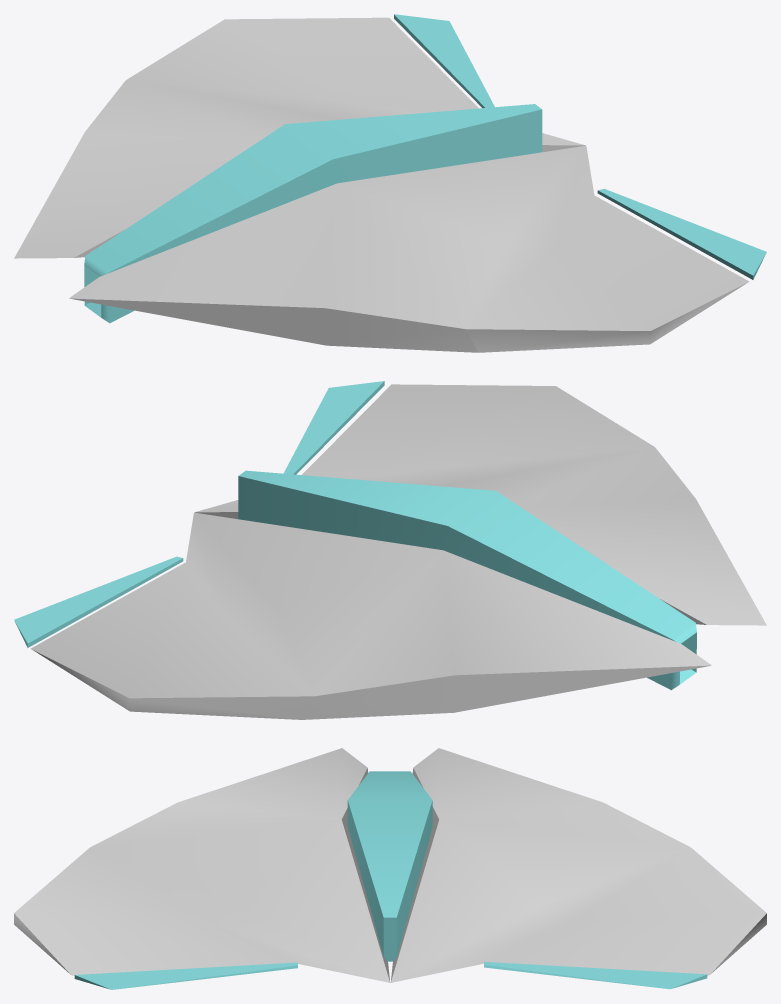
Rendered from birdi 1.fbx.
The picture shows the model from 3 angles, top to bottom: view 1: azimuth 30°, elevation 25°; view 2: azimuth 150°, elevation 25°; view 3: azimuth 270°, elevation 25°; orthographic projection. The views are drawn at different scales.
Visible parts, largest first — view 1: polySurface9, pCube1, pCube3, pCube2; view 2: polySurface9, pCube1, pCube2, pCube3; view 3: polySurface9, pCube1, pCube3, pCube2.
Boxes of the visible parts, bbox=[...] form: polySurface9: bbox=[14, 17, 749, 352]; pCube1: bbox=[84, 104, 542, 323]; pCube3: bbox=[597, 188, 766, 279]; pCube2: bbox=[394, 14, 494, 108]; polySurface9: bbox=[30, 384, 766, 719]; pCube1: bbox=[238, 470, 696, 690]; pCube2: bbox=[14, 556, 183, 647]; pCube3: bbox=[283, 381, 384, 474]; polySurface9: bbox=[14, 748, 766, 982]; pCube1: bbox=[347, 771, 432, 961]; pCube3: bbox=[74, 962, 297, 989]; pCube2: bbox=[484, 962, 707, 989].
Bounding box in the file's own units: 11.92 × 2.44 × 15.48.
